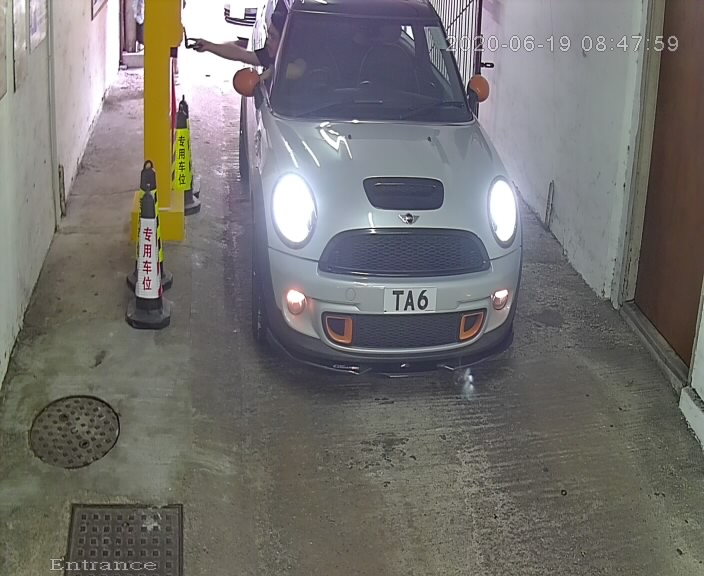bottom_left_lp: (379, 306, 388, 313)
bottom_left_radiator: (317, 259, 330, 273)
bottom_left_windshield: (266, 94, 284, 114)
bottom_right_lp: (433, 306, 440, 313)
bottom_right_radiator: (482, 260, 497, 274)
bottom_right_windshield: (460, 105, 476, 127)
left_headlight: (267, 169, 322, 252)
right_headlight: (484, 167, 521, 250)
top_left_lp: (381, 283, 391, 293)
top_left_radiator: (332, 230, 349, 241)
top_left_windshield: (283, 1, 306, 21)
top_right_lp: (433, 285, 440, 292)
top_right_windshield: (428, 7, 450, 35), (466, 229, 478, 241)
